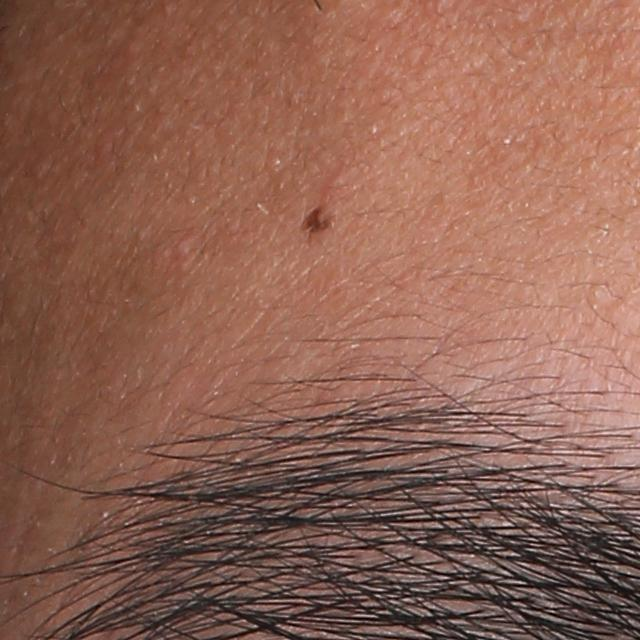nevus: (298, 203, 333, 237)
